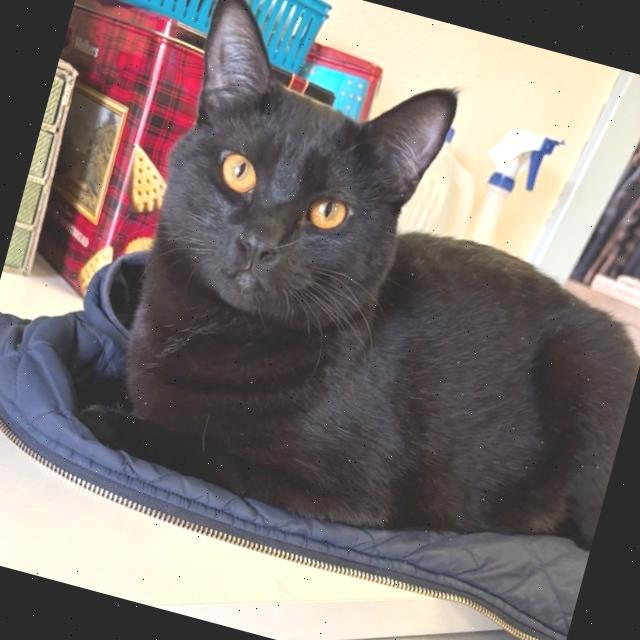bombay_cat: (107, 0, 515, 398)
